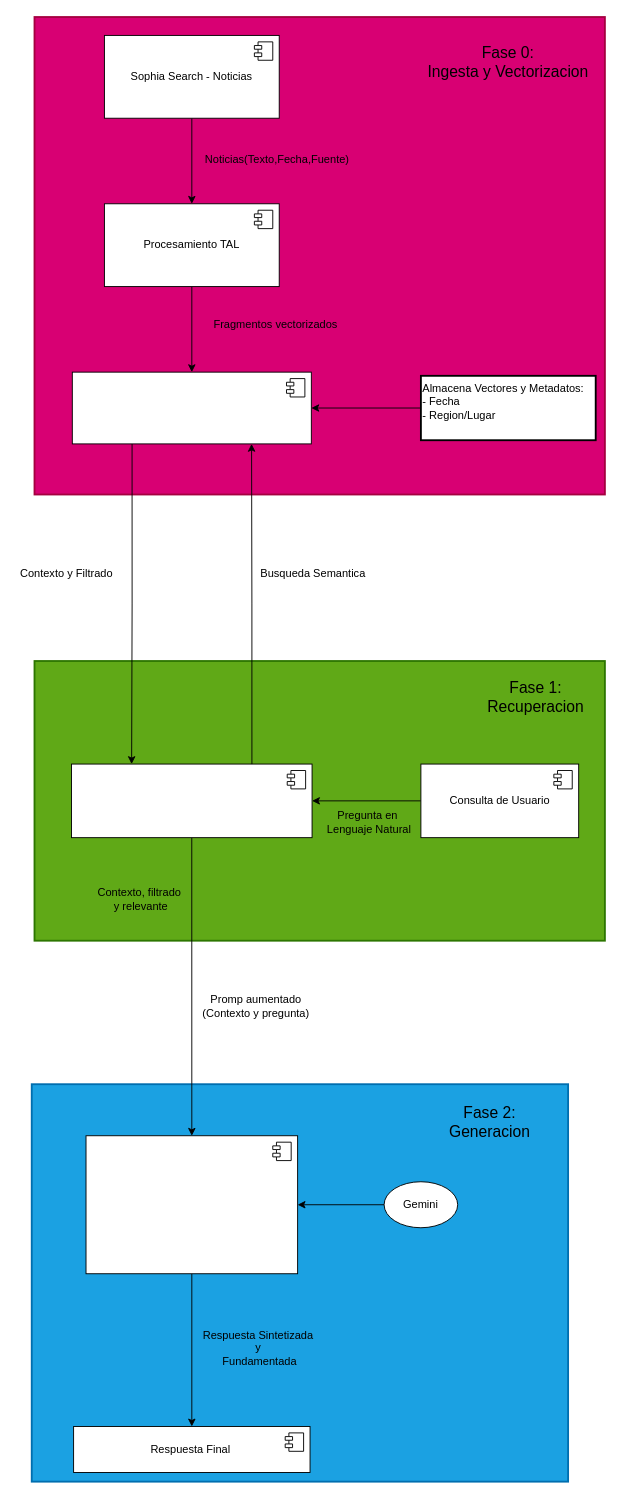
Some shapes in this 621 by 1498 pixel diagram are drawn without their labels. The centre of each missing label's shape, as x and y in pixels:
Base de datos Vectorial: pixel 191 407
Modelo de Lenguaje Grande (LLM): pixel 191 1204
Motor de Orquestación LangChain: pixel 191 800
